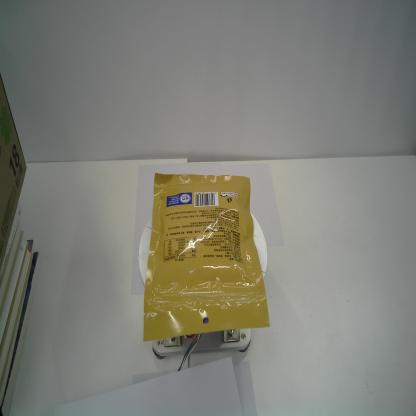Dried Fruit: (143, 172, 270, 342)
